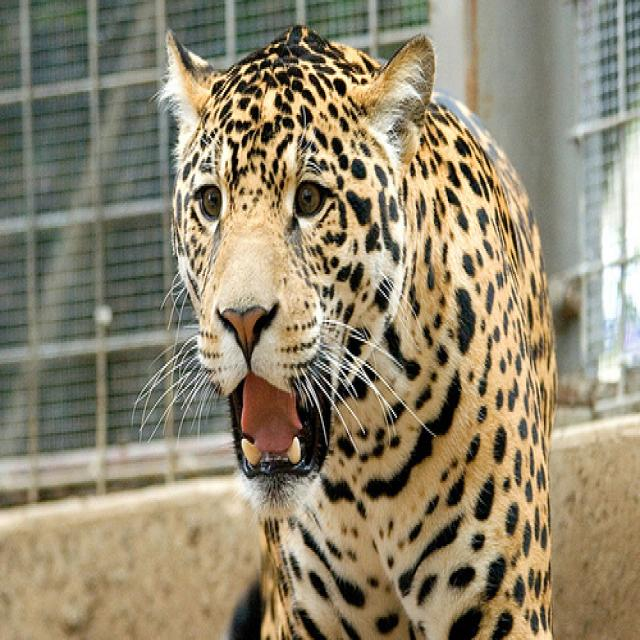Leopard: (162, 27, 554, 636)
